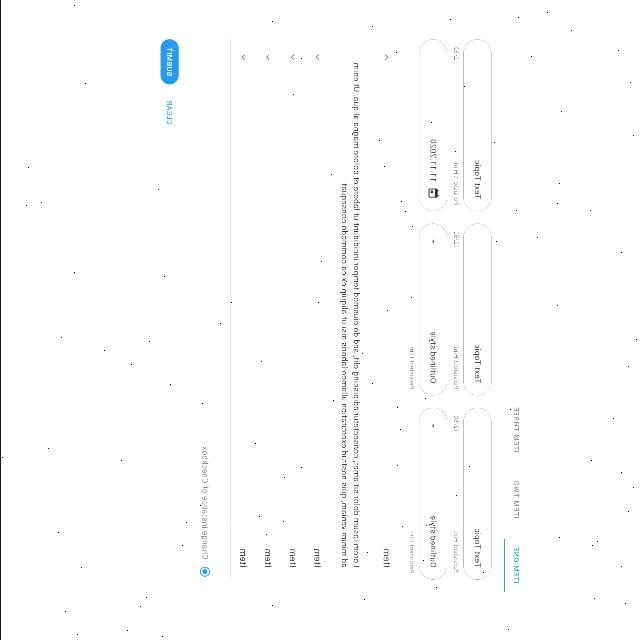QLabel: (339, 62, 361, 572), (200, 446, 208, 562), (511, 547, 519, 587), (512, 407, 518, 455), (164, 47, 172, 77), (512, 482, 518, 520), (381, 550, 391, 570), (262, 550, 272, 570), (165, 100, 172, 126), (312, 550, 321, 570), (288, 549, 296, 571), (239, 549, 247, 569)
VBtn: (160, 39, 178, 85)
VCombobox: (407, 224, 448, 396), (407, 408, 447, 582)
VExpansionPanel: (332, 43, 400, 579), (257, 41, 277, 579), (232, 41, 252, 579), (307, 41, 327, 578), (281, 41, 301, 578)
VInlineDatepicker: (417, 40, 447, 212)
VRadio: (198, 568, 210, 578)
VTabs: (146, 26, 528, 594)
VTextField: (452, 409, 492, 581), (452, 224, 492, 396), (451, 40, 491, 212)
